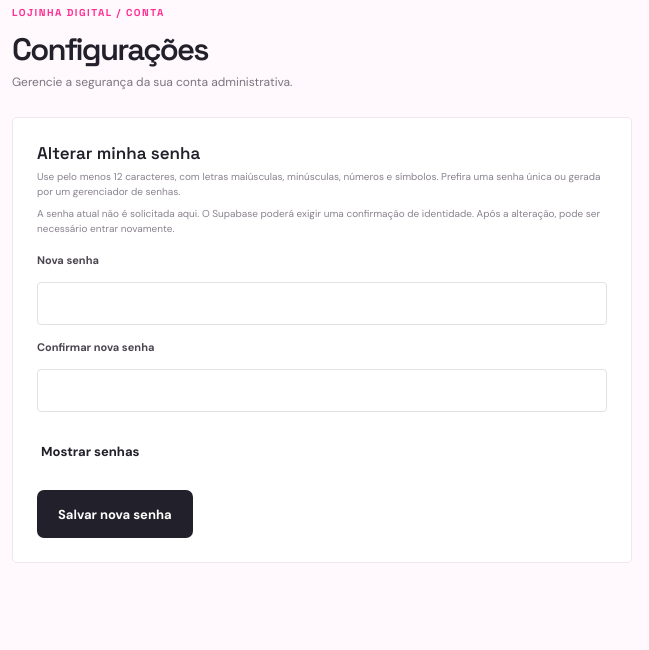
Test: alteração de senha administrativa › traduz erro {"code":"session_not_found"} e limpa campos
In the password field labelled "Nova senha": coordinates (322, 304) x1=37 y1=282 x2=607 y2=325, type "Teste-Seguro123!"
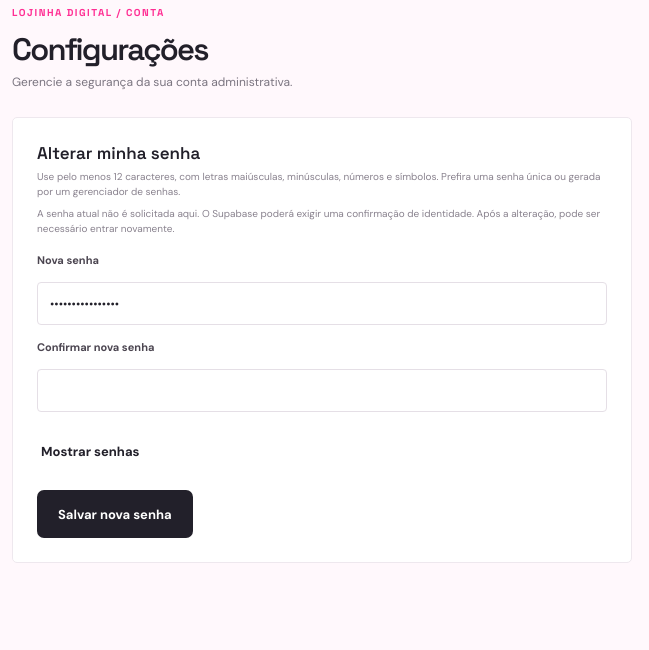
In the password field labelled "Confirmar nova senha": coordinates (322, 390) x1=37 y1=369 x2=607 y2=412, type "Teste-Seguro123!"
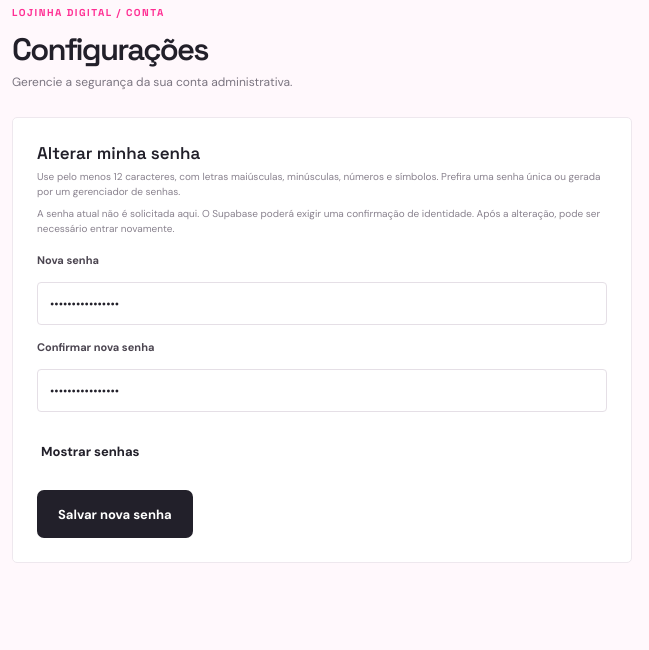
Submit the form named "Salvar nova senha"
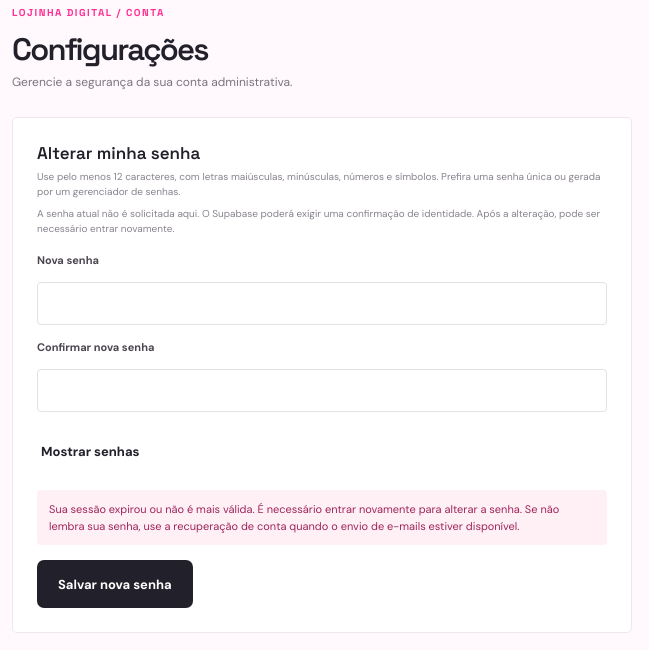
Expected: the message shows "Sua sessão expirou", x1=49 y1=502 x2=559 y2=532
Expected: the password field labelled "Nova senha" is empty, x1=37 y1=282 x2=607 y2=325
